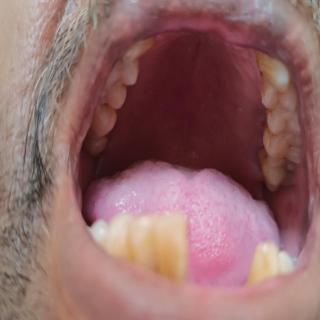stains: (252, 50, 278, 80), (257, 69, 273, 102), (260, 119, 277, 147), (126, 53, 142, 81), (104, 106, 122, 130), (265, 100, 279, 122), (116, 80, 130, 97), (99, 133, 112, 151)
